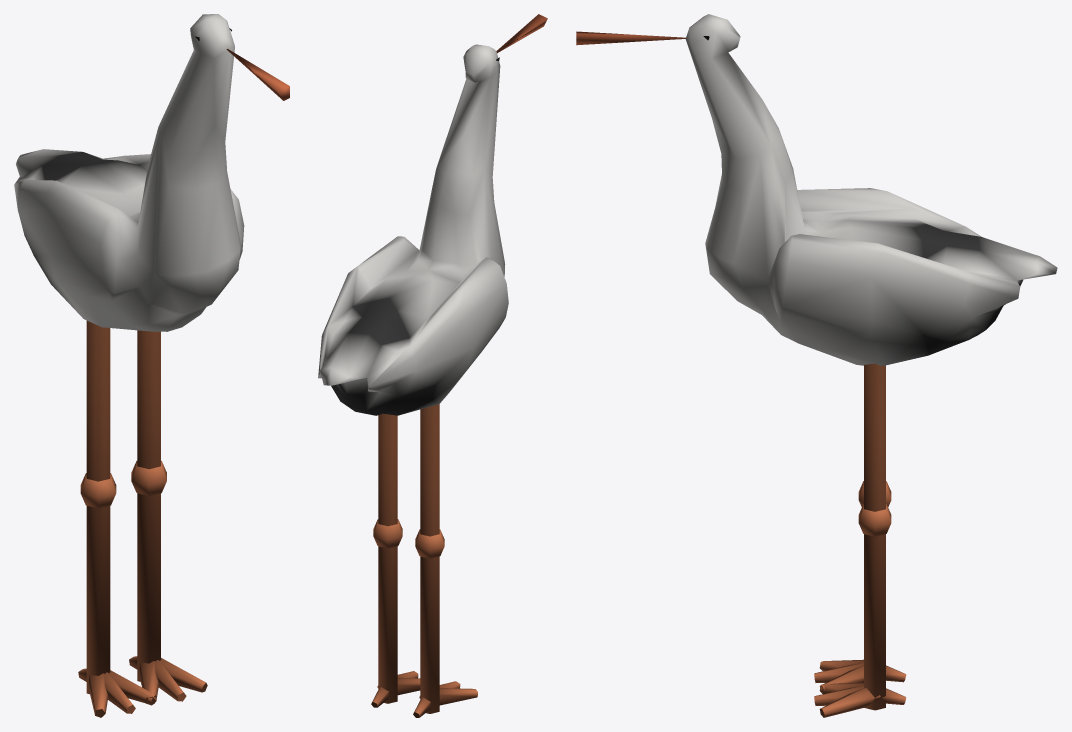
The model's file is storch.glb.
The picture shows the model from 3 angles, left to right: view 1: azimuth 30°, elevation 25°; view 2: azimuth 150°, elevation 25°; view 3: azimuth 270°, elevation 25°; orthographic projection. The views are drawn at different scales.
Parts seen in each view (by area): view 1: lack; view 2: lack; view 3: lack.
Boxes of the visible parts, x1,y1,x2,y2 form: lack: [14, 14, 289, 717]; lack: [318, 14, 547, 717]; lack: [576, 14, 1057, 717].
Bounding box in the file's own units: 0.2158 × 0.9927 × 0.6397.
